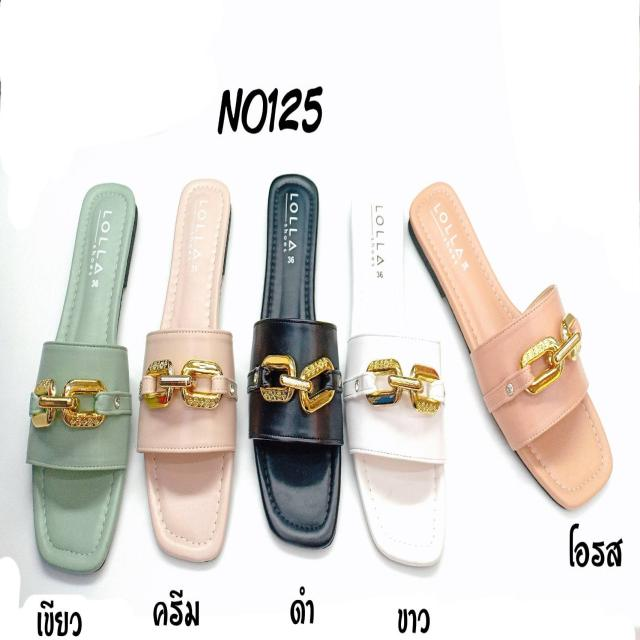black: (252, 174, 342, 533)
cream: (141, 178, 250, 569)
green: (28, 177, 132, 581)
orot: (409, 185, 612, 502)
white: (343, 188, 444, 568)
